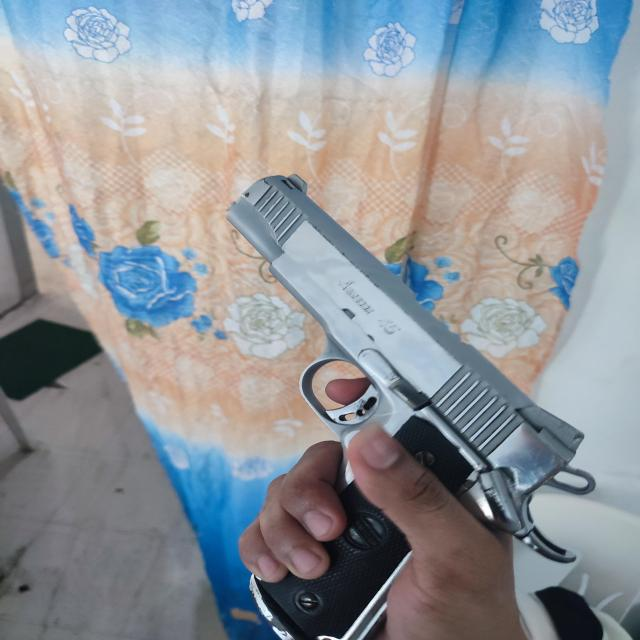pistol: (224, 174, 592, 562)
